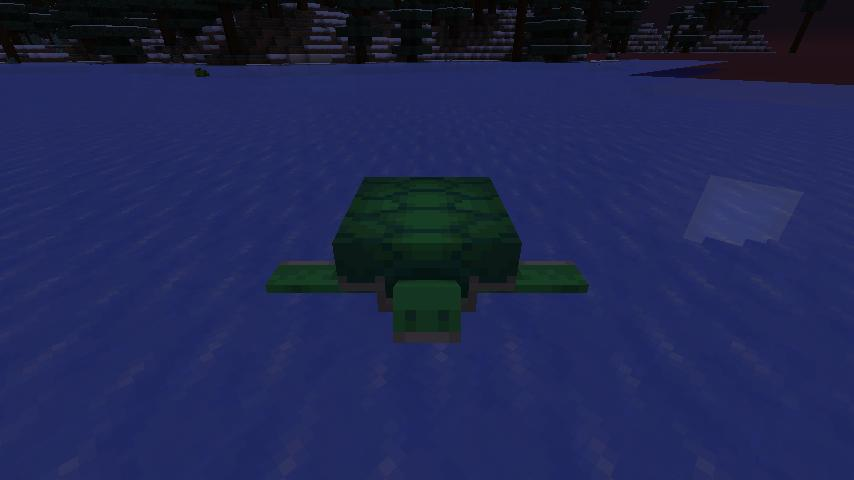frog: (193, 66, 211, 78)
turtle: (263, 169, 596, 351)
